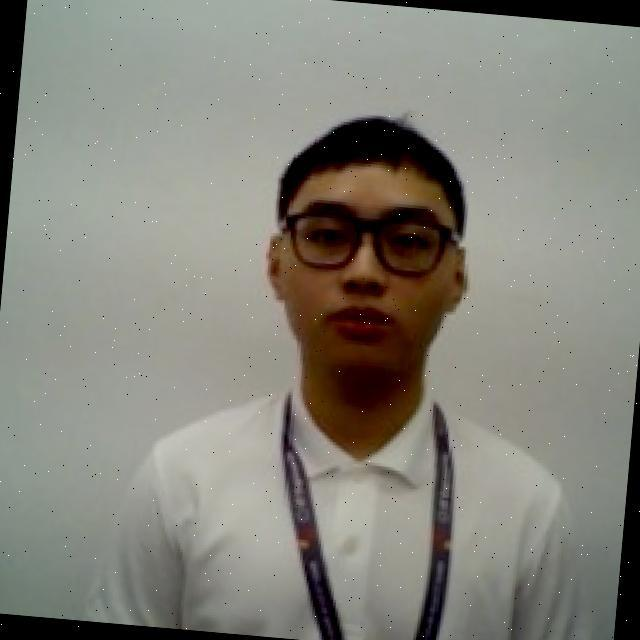no_gloves: (256, 99, 485, 266)
no_hairnet: (247, 248, 478, 390)
